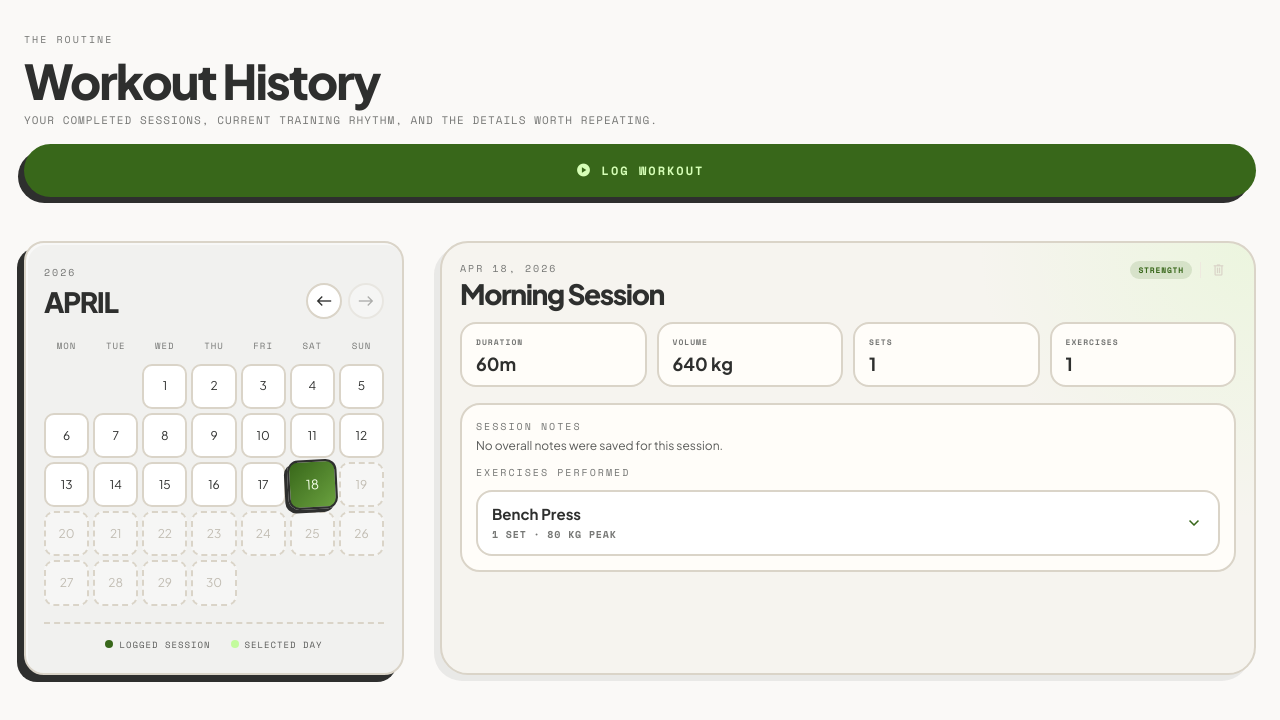
Workouts integration › keeps showing the replacement workout details while a same-day delete is pending
Expected: the heading "Morning Session" is shown, [460,280,664,308]
Expected: the text "Bench Press" is shown, [492,504,581,523]
Click the button named "Delete workout". click: {"x": 1218, "y": 270}
box: [1200,262,1236,278]
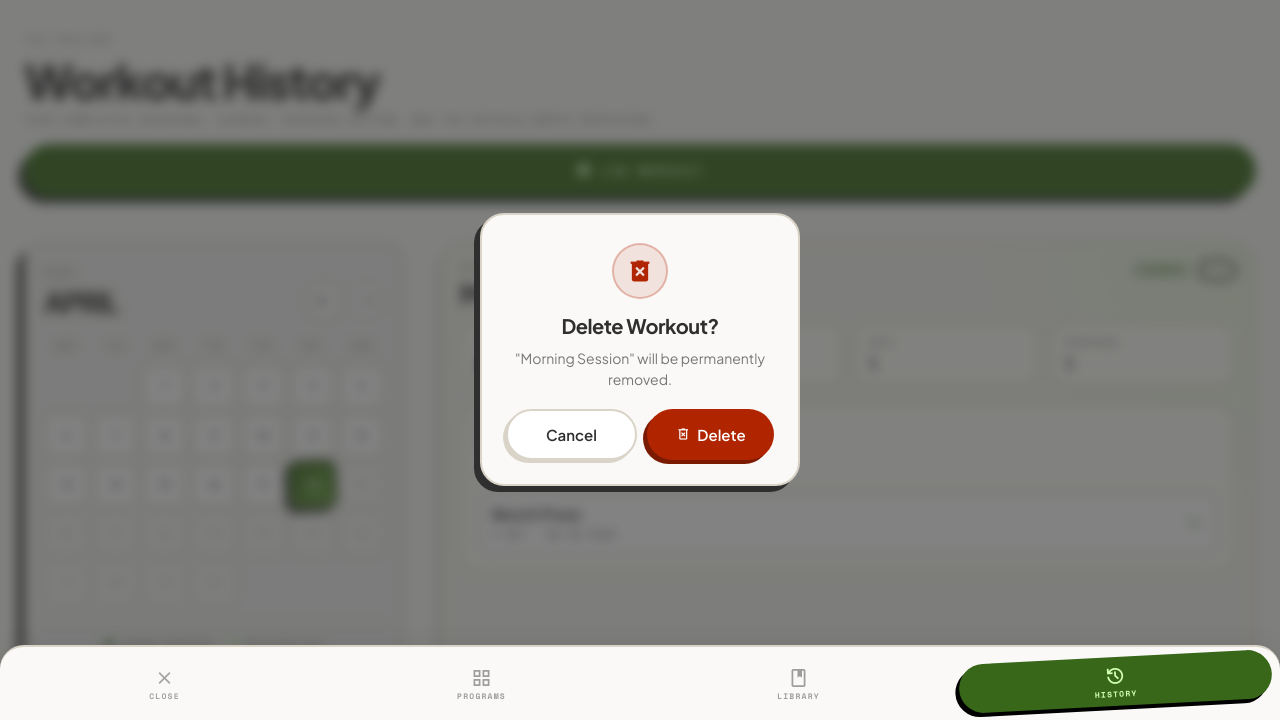
Expected: the heading "Delete Workout?" is shown, [561,313,719,338]
Click the button "Delete". click: {"x": 710, "y": 434}
box: [647,409,774,460]
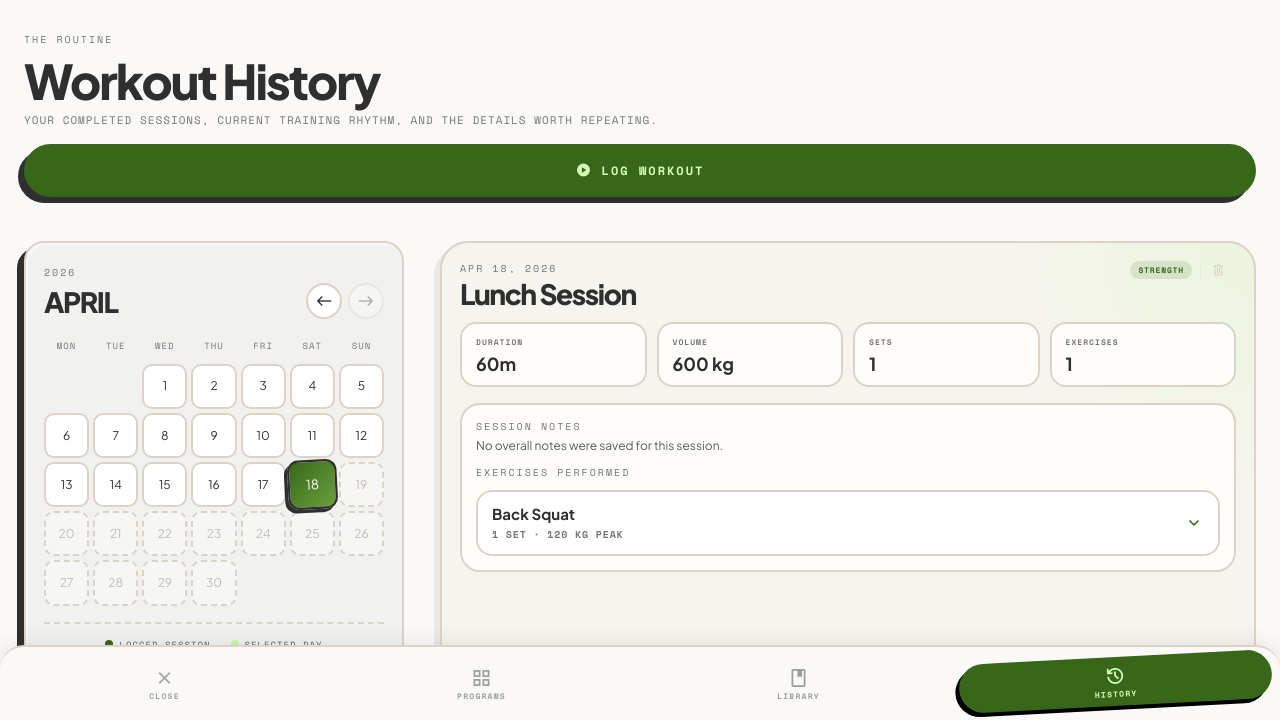
Expected: the text "Back Squat" is shown, [492,504,575,523]
Expected: the heading "Lunch Session" is shown, [460,280,636,308]
